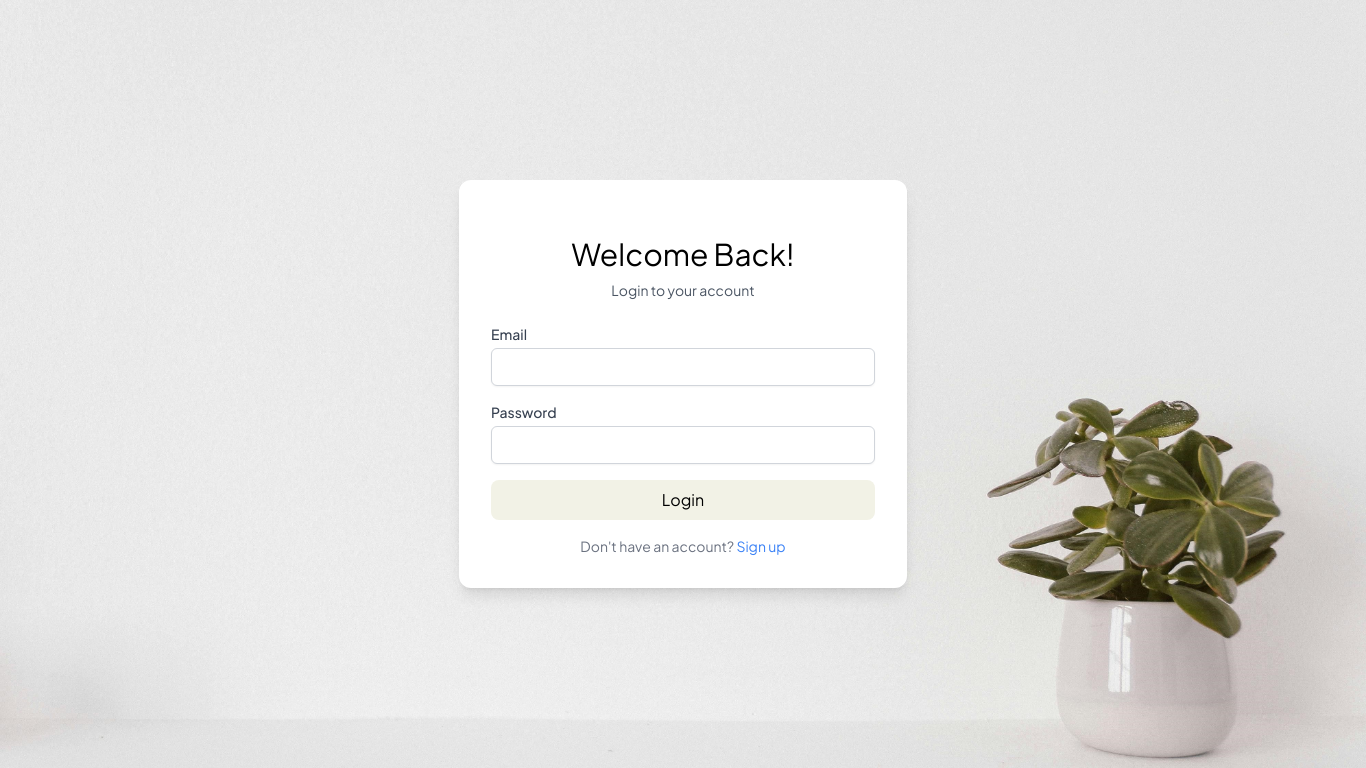
Test case: Login Component › displays error message on invalid credentials
In the field labelled "Email": (683, 367) 491,348 -> 875,386, type "wrong@example.com"
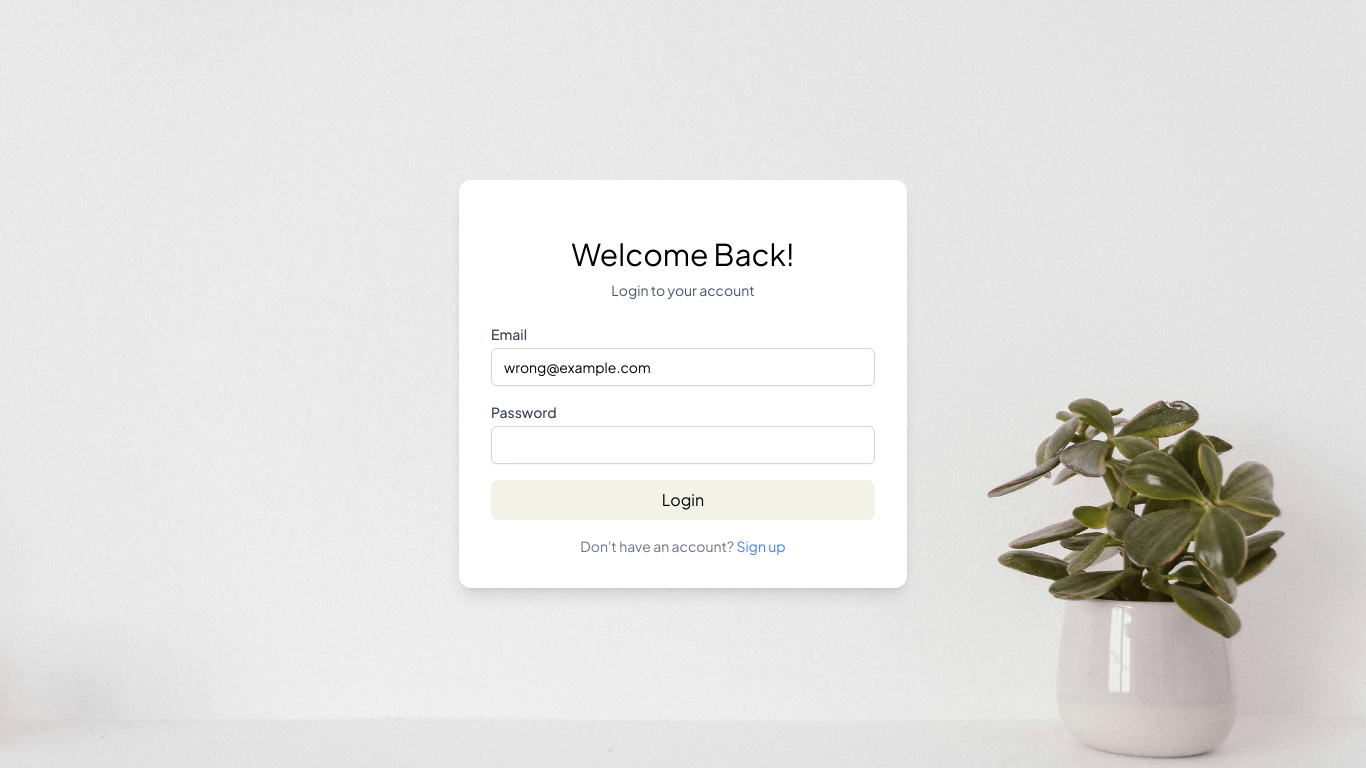
In the password field labelled "Password": (683, 445) 491,426 -> 875,464, type "wrongpassword"
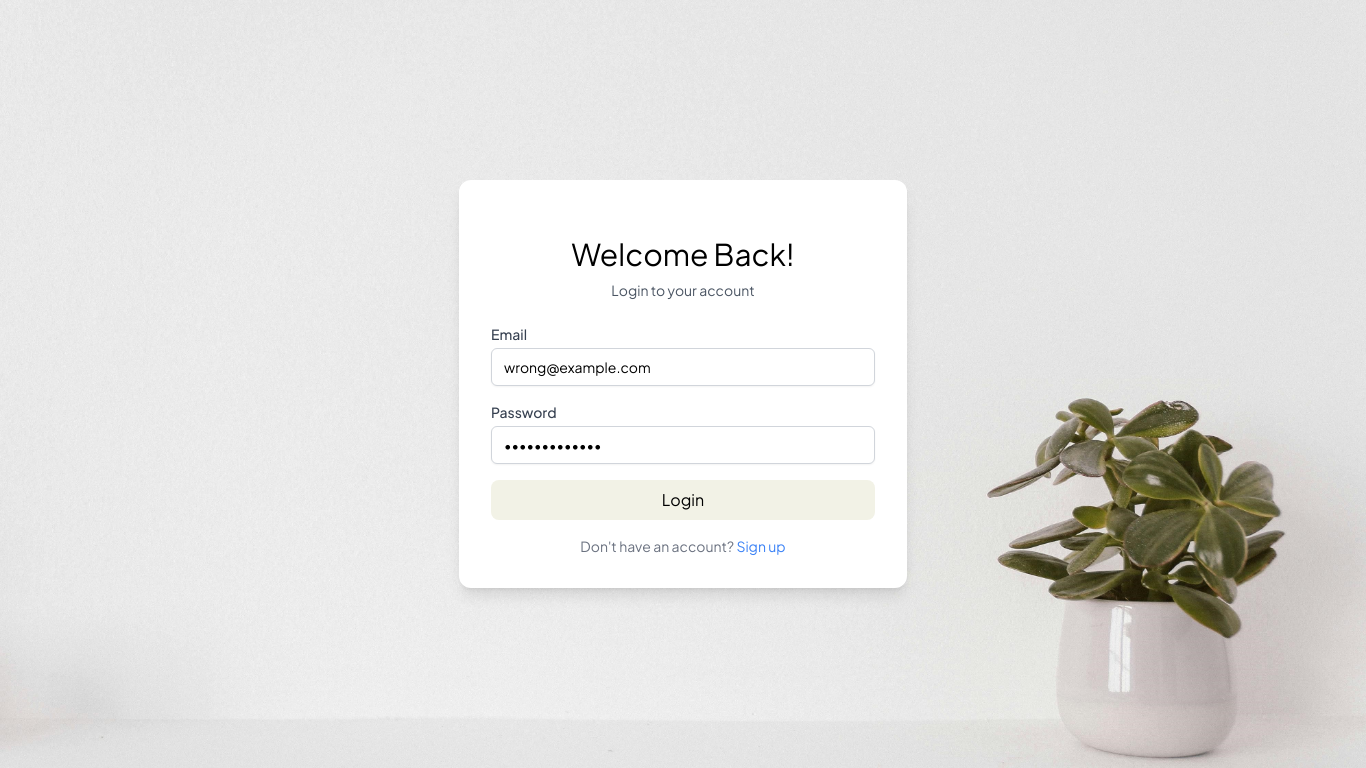
Click the button "Login": (683, 500) 491,480 -> 875,520
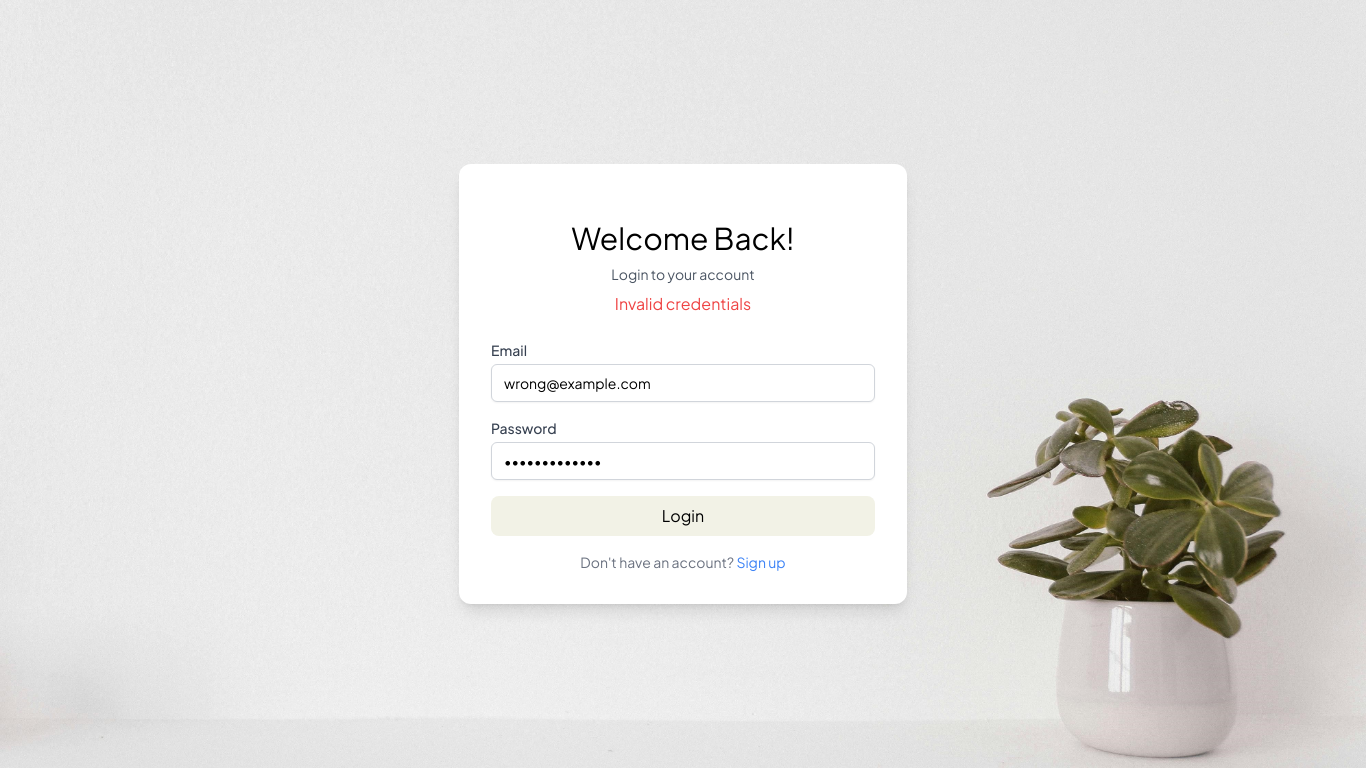
Expected: the message reads "Invalid credentials", 615,293 -> 751,314
